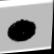correct: (3, 15, 42, 46)
